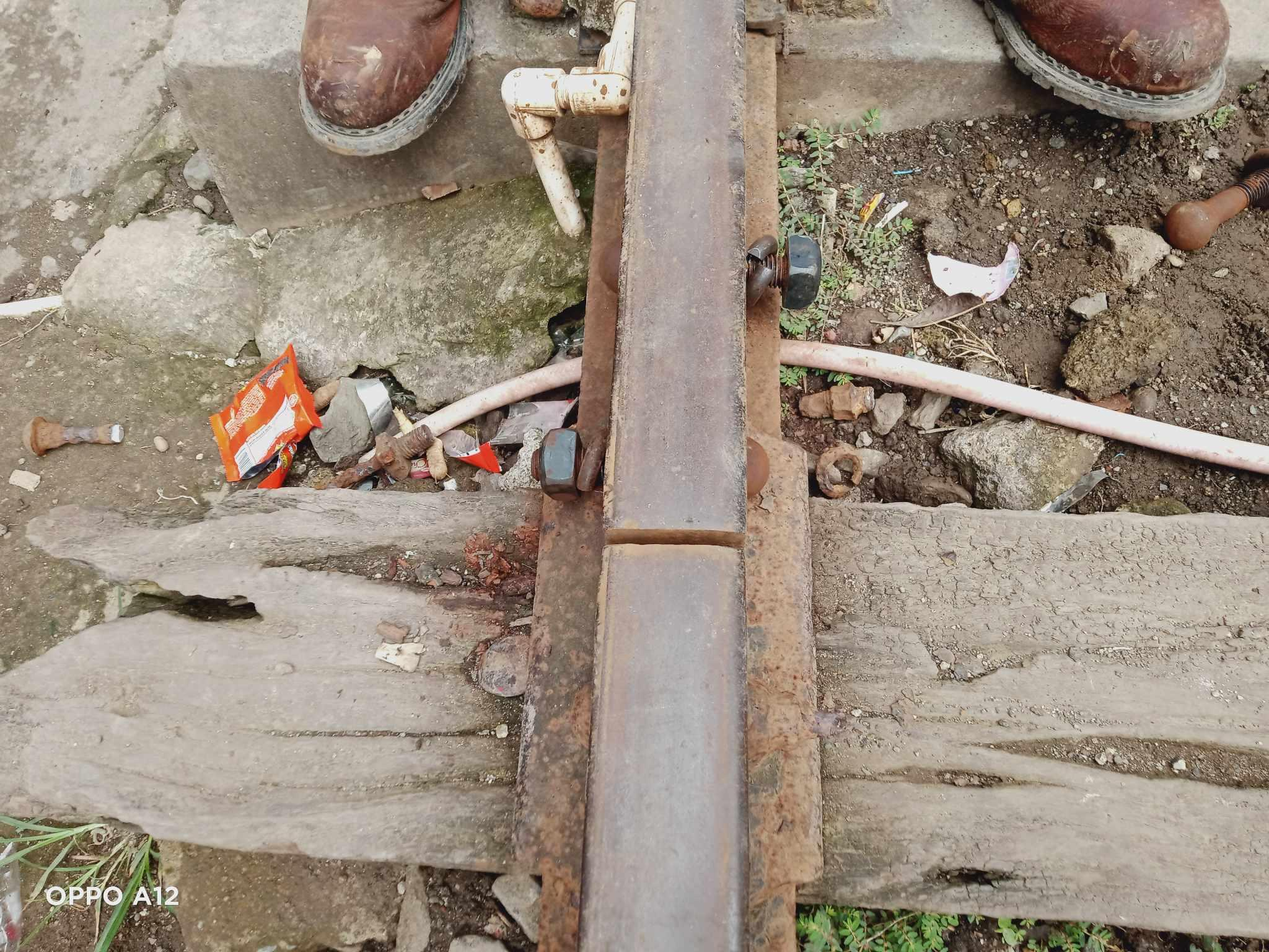railway-gap: (559, 425, 792, 654)
